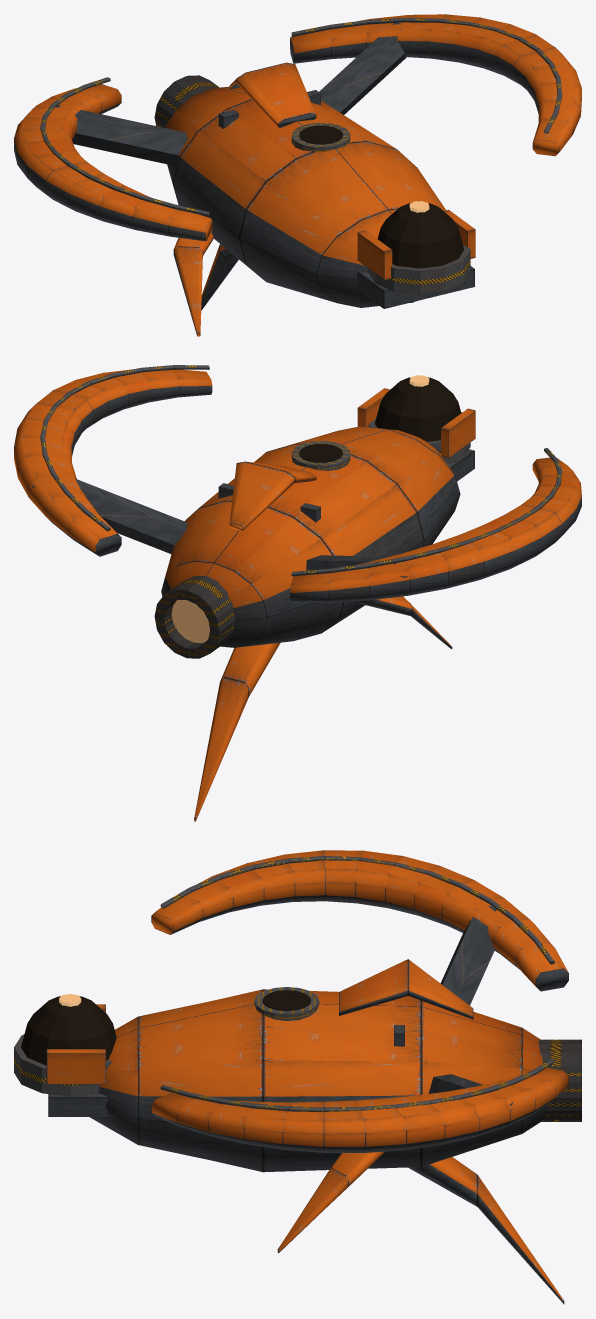
Rendered from pioneer-saturn-l07-shield.glb.
The picture shows the model from 3 angles, top to bottom: view 1: azimuth 30°, elevation 25°; view 2: azimuth 150°, elevation 25°; view 3: azimuth 270°, elevation 25°; orthographic projection. The views are drawn at different scales.
Parts seen in each view (by area): view 1: Drone; view 2: Drone; view 3: Drone.
Boxes of the visible parts, x1,y1,x2,y2 form: Drone: [14, 14, 581, 336]; Drone: [14, 365, 581, 821]; Drone: [14, 850, 581, 1304].
Size of the model in its own units: 1.51 by 0.8489 by 1.31.
Materials: 3 (3 with a texture image).
